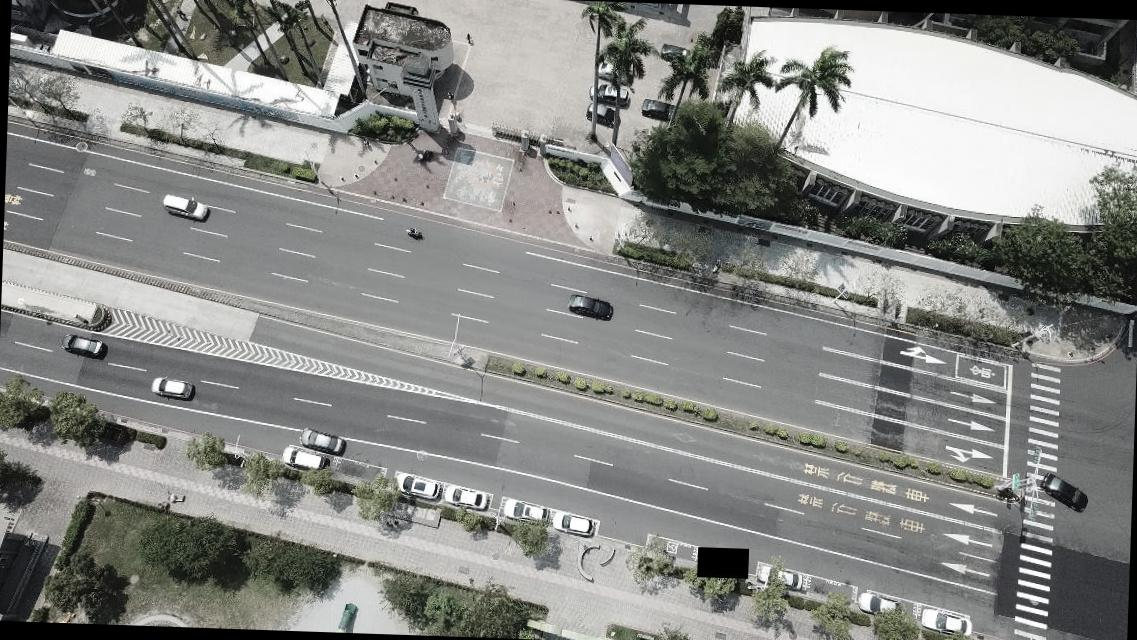vehicle: (1038, 474, 1088, 514), (921, 608, 971, 638), (160, 192, 206, 224), (752, 564, 806, 590), (568, 293, 613, 323), (855, 589, 901, 618), (394, 471, 442, 496), (149, 376, 195, 401), (300, 428, 343, 453), (552, 512, 596, 536), (60, 334, 104, 358), (281, 446, 323, 471), (588, 82, 630, 106), (444, 486, 485, 510), (639, 96, 680, 118), (584, 101, 617, 128), (505, 500, 547, 521), (594, 59, 634, 81), (658, 43, 694, 65)
